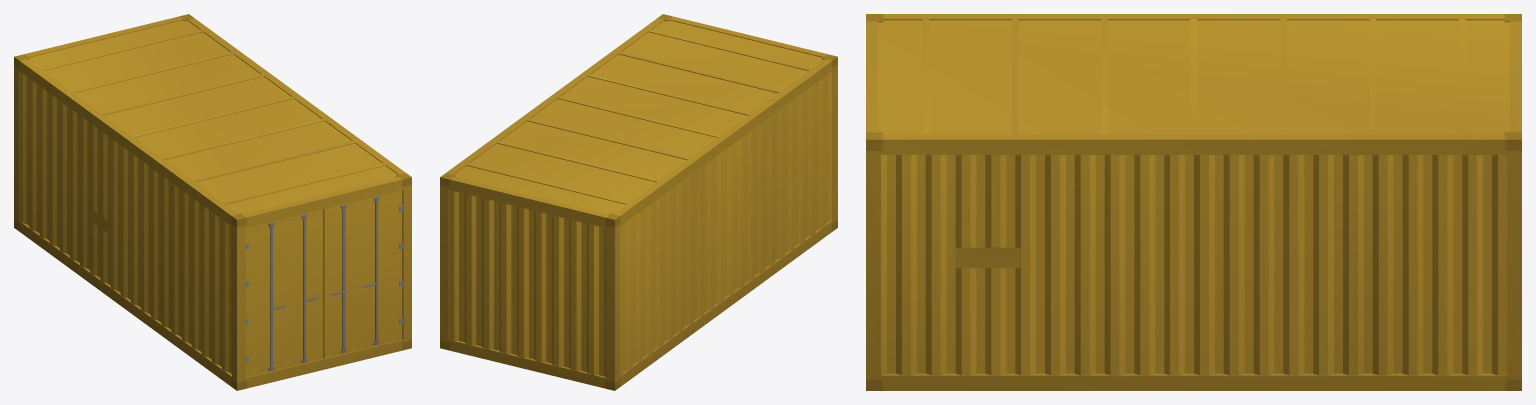
The model's file is container.shipping.yellow.glb.
3 views of the same model, side by side, from view 1: azimuth 30°, elevation 25°; view 2: azimuth 150°, elevation 25°; view 3: azimuth 270°, elevation 25° (orthographic). The views are drawn at different scales.
Visible parts, largest first — view 1: container_shipping_yellow; view 2: container_shipping_yellow; view 3: container_shipping_yellow.
Part boxes in pixels (x1,y1,x2,y2): container_shipping_yellow: [14, 14, 411, 390]; container_shipping_yellow: [440, 14, 837, 390]; container_shipping_yellow: [866, 14, 1521, 390].
Size of what is drawn, in the model's own units: 2.78 by 2.6 by 6.14.
